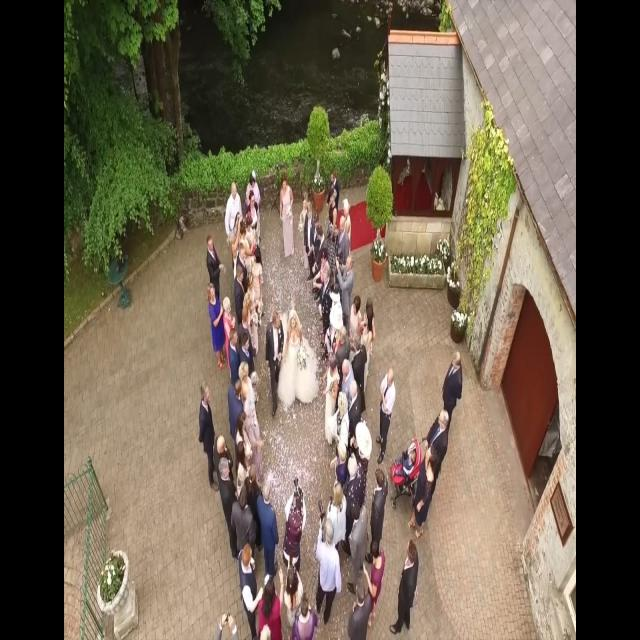humans: (316, 513, 341, 628), (393, 535, 418, 640), (286, 308, 310, 415), (236, 541, 259, 640), (259, 479, 281, 577), (197, 378, 216, 489), (284, 479, 307, 564), (257, 576, 285, 640), (266, 307, 284, 404), (205, 279, 225, 366), (378, 366, 396, 460), (348, 575, 373, 640), (277, 172, 295, 260), (441, 346, 464, 410), (428, 408, 457, 454), (204, 231, 228, 286), (235, 482, 257, 542), (367, 538, 387, 595), (218, 457, 235, 524), (295, 593, 319, 640), (327, 477, 347, 529), (337, 385, 350, 465), (326, 348, 337, 428), (283, 562, 300, 608), (364, 295, 377, 352), (337, 214, 352, 261), (233, 261, 246, 313), (345, 454, 361, 496), (227, 375, 243, 415), (342, 253, 352, 310), (226, 180, 242, 214), (351, 295, 363, 340), (325, 169, 345, 195), (238, 360, 256, 388), (317, 242, 329, 283), (228, 323, 240, 363), (240, 328, 255, 360), (341, 354, 357, 384), (244, 188, 262, 214), (334, 322, 351, 348), (239, 219, 251, 248), (245, 270, 256, 301), (248, 166, 260, 189)
